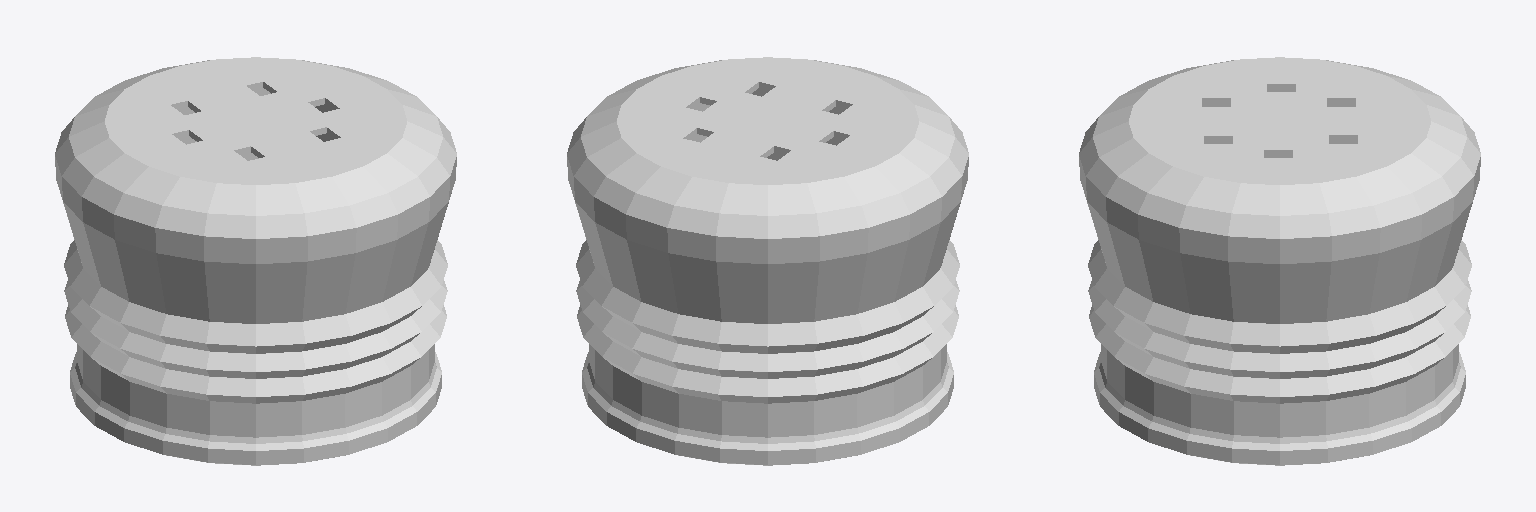
Rendered from Salt_Shaker_1_1.obj.
3 views of the same model, side by side, from view 1: azimuth 30°, elevation 25°; view 2: azimuth 150°, elevation 25°; view 3: azimuth 270°, elevation 25° (orthographic).
Size of the model in its own units: 0.0281 by 0.0208 by 0.0281.